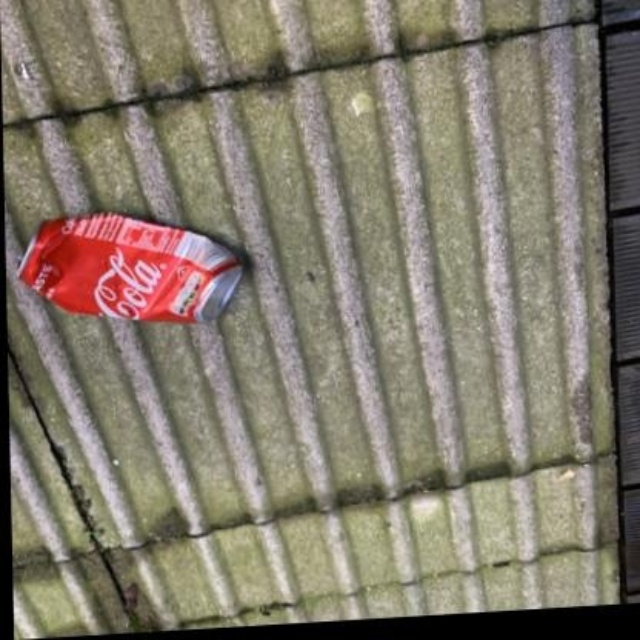trash: (18, 212, 242, 322)
